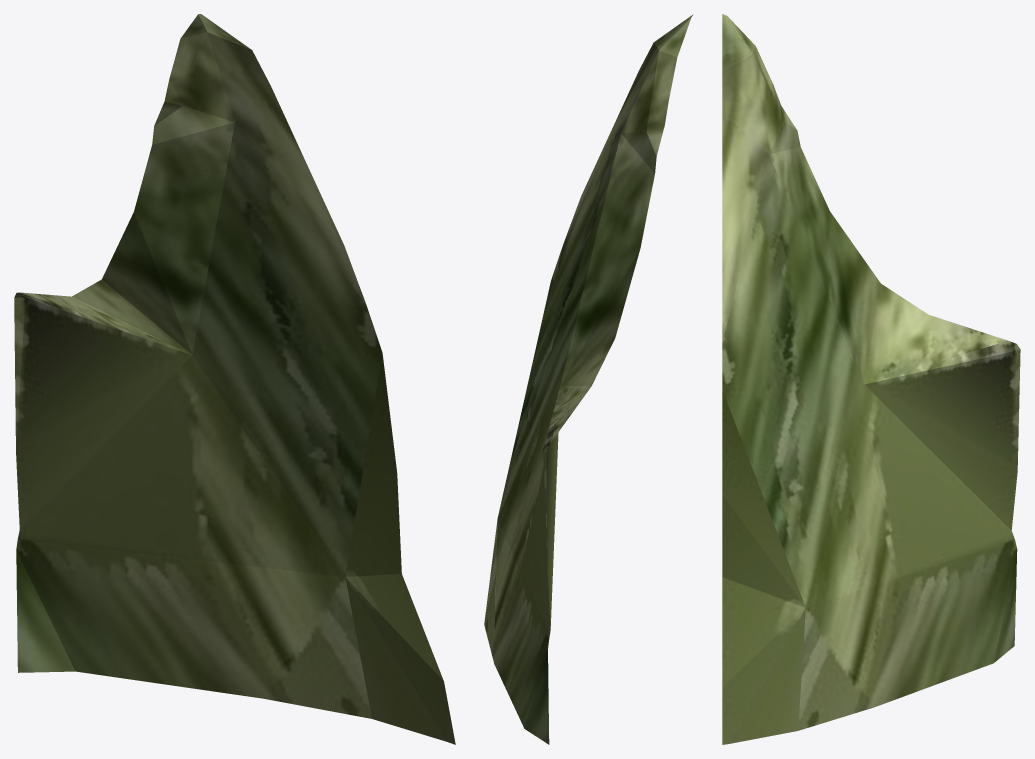
The picture shows the model from 3 angles, left to right: view 1: azimuth 30°, elevation 25°; view 2: azimuth 150°, elevation 25°; view 3: azimuth 270°, elevation 25°; orthographic projection. The views are drawn at different scales.
Size of the model in its own units: 0.8709 by 2.59 by 1.11.
Materials: 1 (1 with a texture image).
